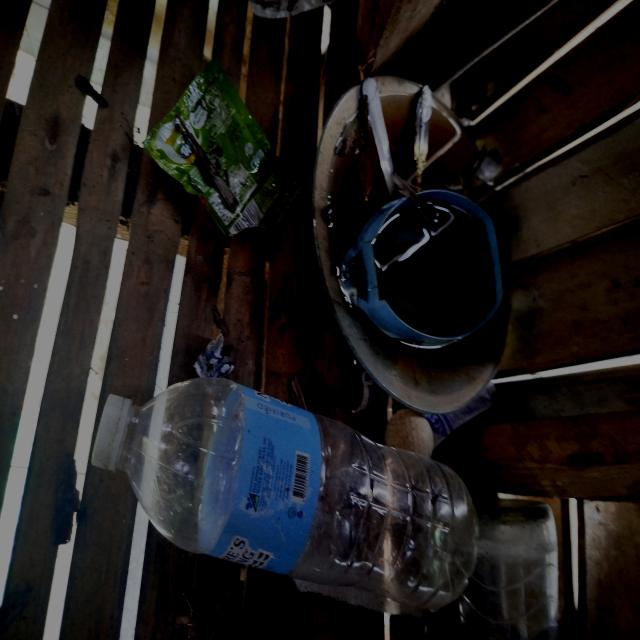plastic: (79, 360, 486, 620)
